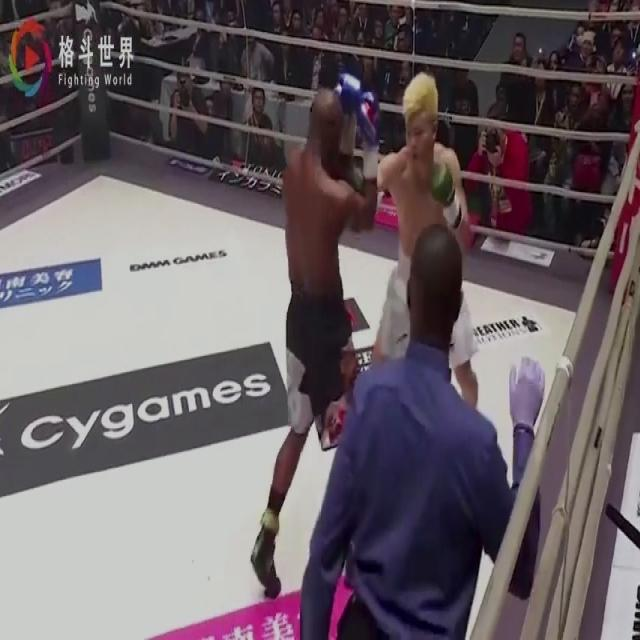fight: (248, 53, 480, 598)
non-fight: (298, 228, 546, 637)
